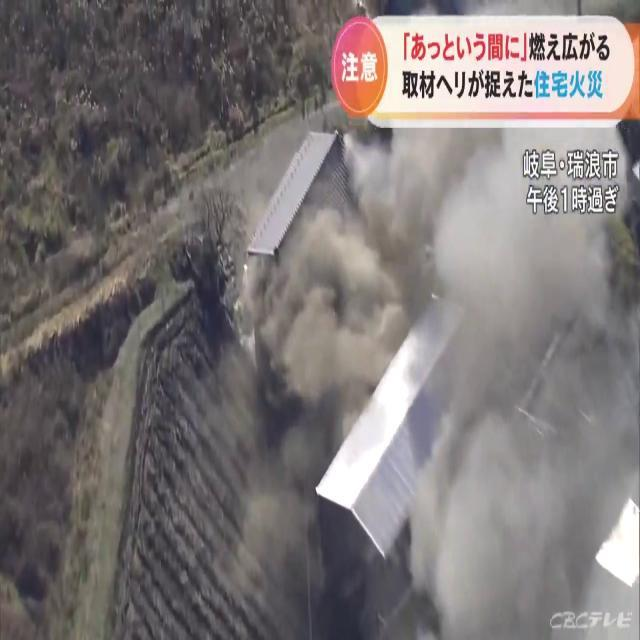Smoke: (225, 118, 640, 612)
